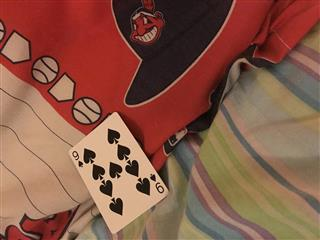NineOfSpades: (67, 111, 170, 234)
